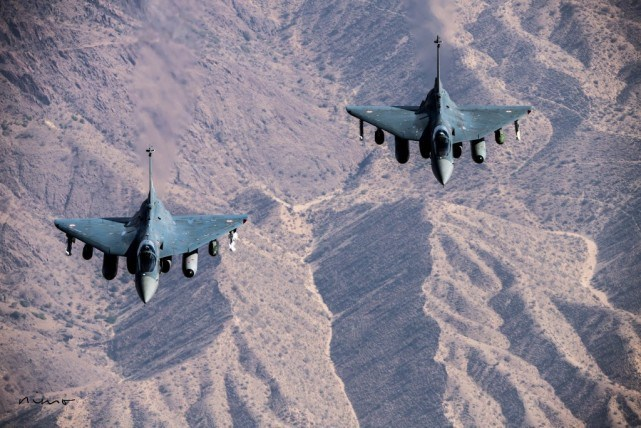airplane: (52, 144, 249, 308), (344, 31, 538, 186)
